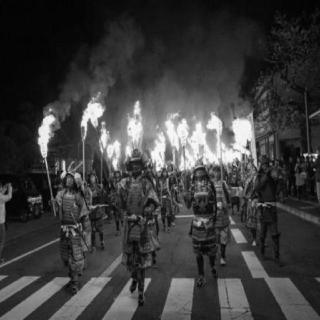Fire: (30, 77, 258, 173)
